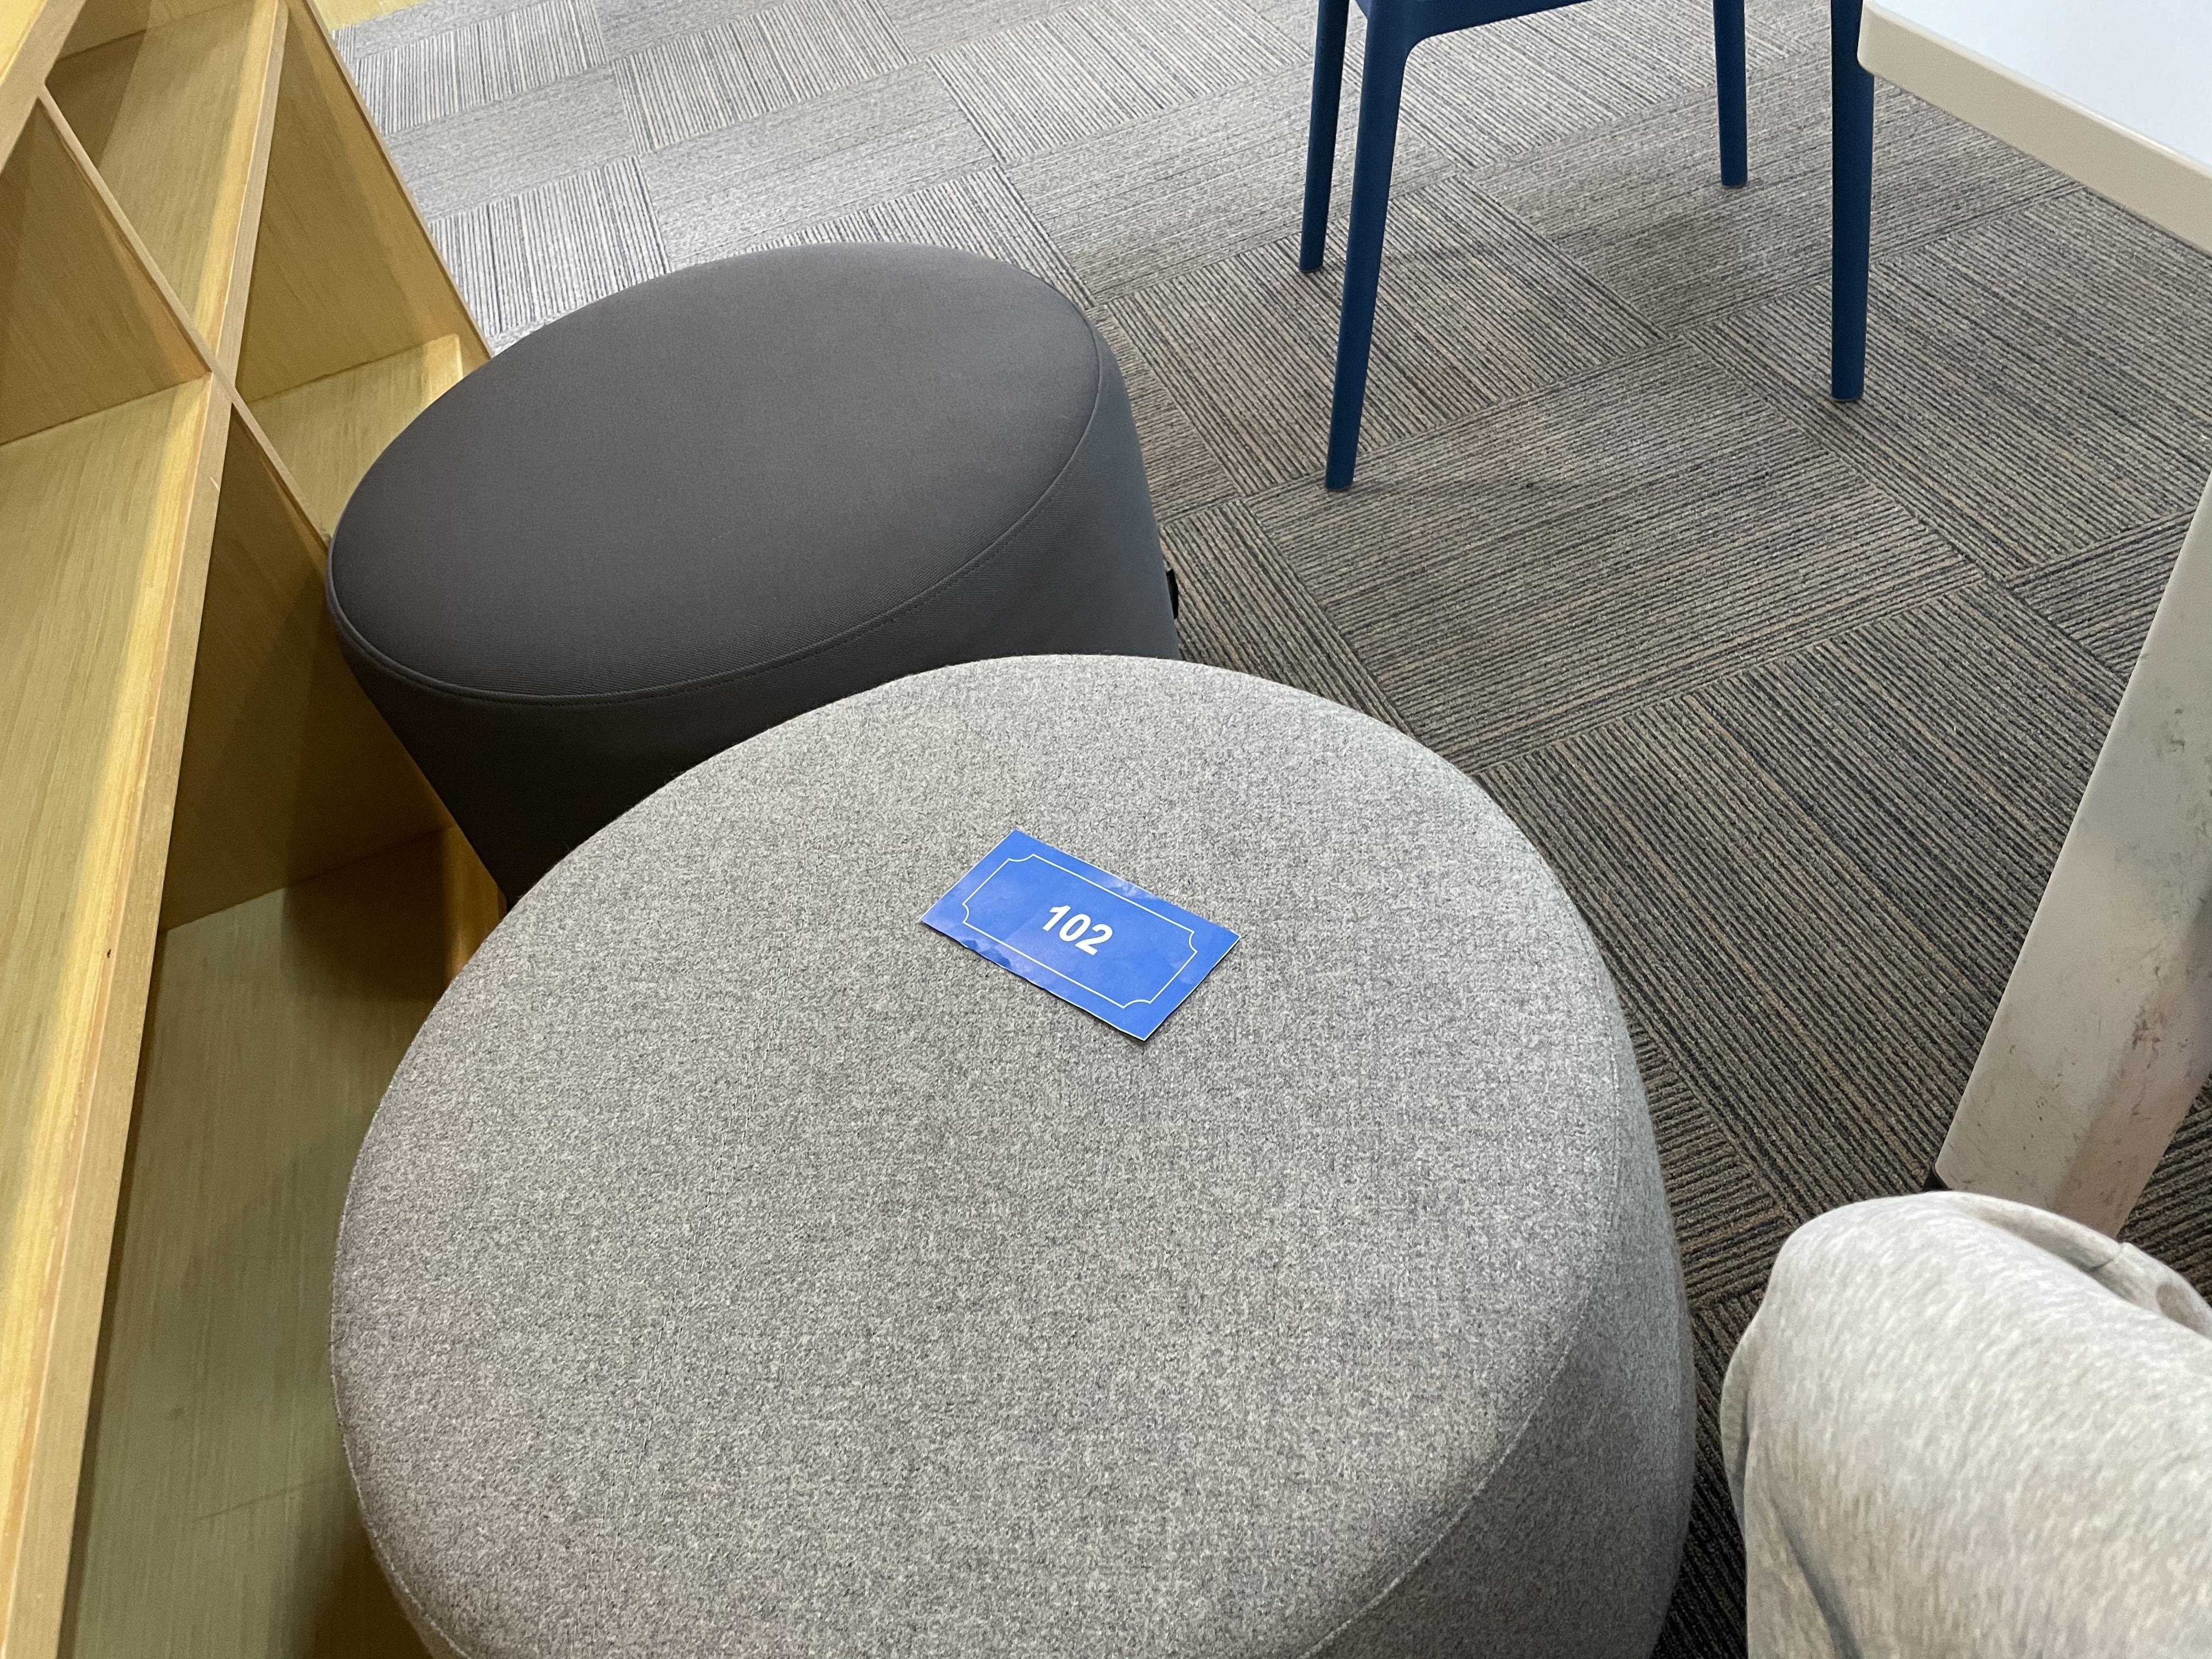Card: (883, 807, 1271, 1058)
